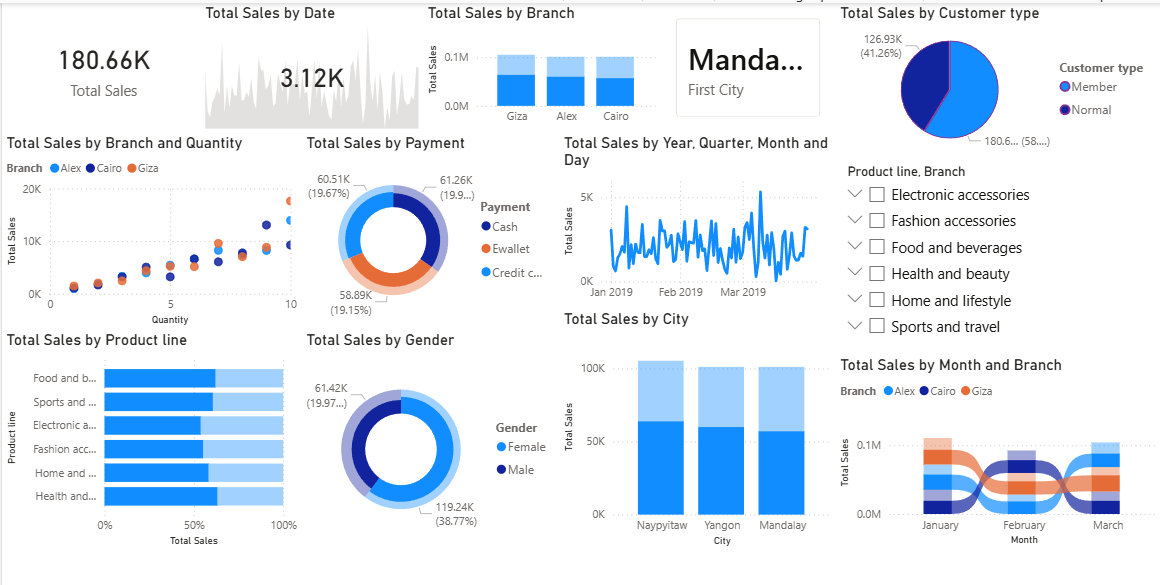

The page's visual inventory and layout, read from the dashboard file:
{"tool":"powerbi","page":{"name":"Page 1","canvas":[1280,720],"ordinal":0},"visuals":[{"type":"columnChart","fields":{"Category":["SuperMarket Analysis.Branch"],"Y":["SuperMarket Analysis.Total Sales"]},"box":[462.2,0,260.5,143.1],"z":0},{"type":"pieChart","fields":{"Category":["SuperMarket Analysis.Customer type"],"Y":["SuperMarket Analysis.Total Sales"]},"box":[915.9,0,359.5,171.2],"z":1000},{"type":"scatterChart","fields":{"X":["SuperMarket Analysis.Quantity"],"Y":["SuperMarket Analysis.Total Sales"],"Series":["SuperMarket Analysis.Branch"]},"box":[0,143.1,328.9,216.4],"z":2000},{"type":"lineChart","fields":{"Y":["SuperMarket Analysis.Total Sales"],"Category":["SuperMarket Analysis.Date.Variation.Date Hierarchy.Year","SuperMarket Analysis.Date.Variation.Date Hierarchy.Quarter","SuperMarket Analysis.Date.Variation.Date Hierarchy.Month","SuperMarket Analysis.Date.Variation.Date Hierarchy.Day"]},"box":[612.6,143.1,303.3,193.2],"z":3000},{"type":"card","fields":{"Values":["SuperMarket Analysis.Total Sales"]},"box":[0,0,223.8,143.1],"z":4000},{"type":"hundredPercentStackedBarChart","fields":{"Category":["SuperMarket Analysis.Product line"],"Y":["SuperMarket Analysis.Total Sales"]},"box":[0,359.5,328.9,242.1],"z":5000},{"type":"slicer","fields":{"Values":["SuperMarket Analysis.Product line","SuperMarket Analysis.Branch"]},"box":[915.9,171.2,359.5,216.4],"z":6000},{"type":"kpi","fields":{"Indicator":["SuperMarket Analysis.Total Sales"],"TrendLine":["SuperMarket Analysis.Date"]},"box":[217.7,0,244.6,143.1],"z":7000},{"type":"donutChart","fields":{"Y":["SuperMarket Analysis.Total Sales"],"Category":["SuperMarket Analysis.Gender"]},"box":[328.9,359.5,283.7,242.1],"z":8000},{"type":"clusteredColumnChart","fields":{"Y":["SuperMarket Analysis.Total Sales"],"Category":["SuperMarket Analysis.City"]},"box":[612.6,336.3,303.3,265.4],"z":9000},{"type":"ribbonChart","fields":{"Category":["SuperMarket Analysis.Date.Variation.Date Hierarchy.Month"],"Series":["SuperMarket Analysis.Branch"],"Y":["SuperMarket Analysis.Total Sales"]},"box":[915.9,387.6,359.5,214],"z":10000},{"type":"donutChart","fields":{"Category":["SuperMarket Analysis.Payment"],"Y":["SuperMarket Analysis.Total Sales"]},"box":[328.9,143.1,283.7,216.4],"z":11000},{"type":"cardVisual","fields":{"Data":["Min(SuperMarket Analysis.City)"]},"box":[723.2,0,192.1,142.7],"z":12000}]}

Visuals, with their boxes on the page's 1280x720 design canvas (x1, y1, x2, y2). These are canvas units, not pixel positions in the 1160x585 screenshot, which may show the page scaled, cropped or inside an application window:
columnChart - SuperMarket Analysis.Branch x SuperMarket Analysis.Total Sales: bbox=(462, 0, 723, 143)
pieChart - SuperMarket Analysis.Customer type x SuperMarket Analysis.Total Sales: bbox=(916, 0, 1275, 171)
scatterChart - SuperMarket Analysis.Quantity x SuperMarket Analysis.Total Sales: bbox=(0, 143, 329, 360)
lineChart - SuperMarket Analysis.Total Sales x SuperMarket Analysis.Date.Variation.Date Hierarchy.Year: bbox=(613, 143, 916, 336)
card - SuperMarket Analysis.Total Sales: bbox=(0, 0, 224, 143)
hundredPercentStackedBarChart - SuperMarket Analysis.Product line x SuperMarket Analysis.Total Sales: bbox=(0, 360, 329, 602)
slicer - SuperMarket Analysis.Product line x SuperMarket Analysis.Branch: bbox=(916, 171, 1275, 388)
kpi - SuperMarket Analysis.Total Sales x SuperMarket Analysis.Date: bbox=(218, 0, 462, 143)
donutChart - SuperMarket Analysis.Total Sales x SuperMarket Analysis.Gender: bbox=(329, 360, 613, 602)
clusteredColumnChart - SuperMarket Analysis.Total Sales x SuperMarket Analysis.City: bbox=(613, 336, 916, 602)
ribbonChart - SuperMarket Analysis.Date.Variation.Date Hierarchy.Month x SuperMarket Analysis.Branch: bbox=(916, 388, 1275, 602)
donutChart - SuperMarket Analysis.Payment x SuperMarket Analysis.Total Sales: bbox=(329, 143, 613, 360)
cardVisual - Min(SuperMarket Analysis.City): bbox=(723, 0, 915, 143)
